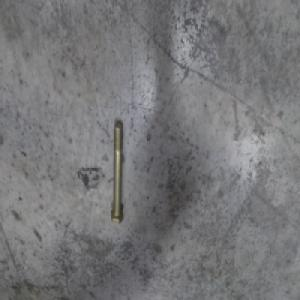Bolt: (108, 120, 126, 226)
